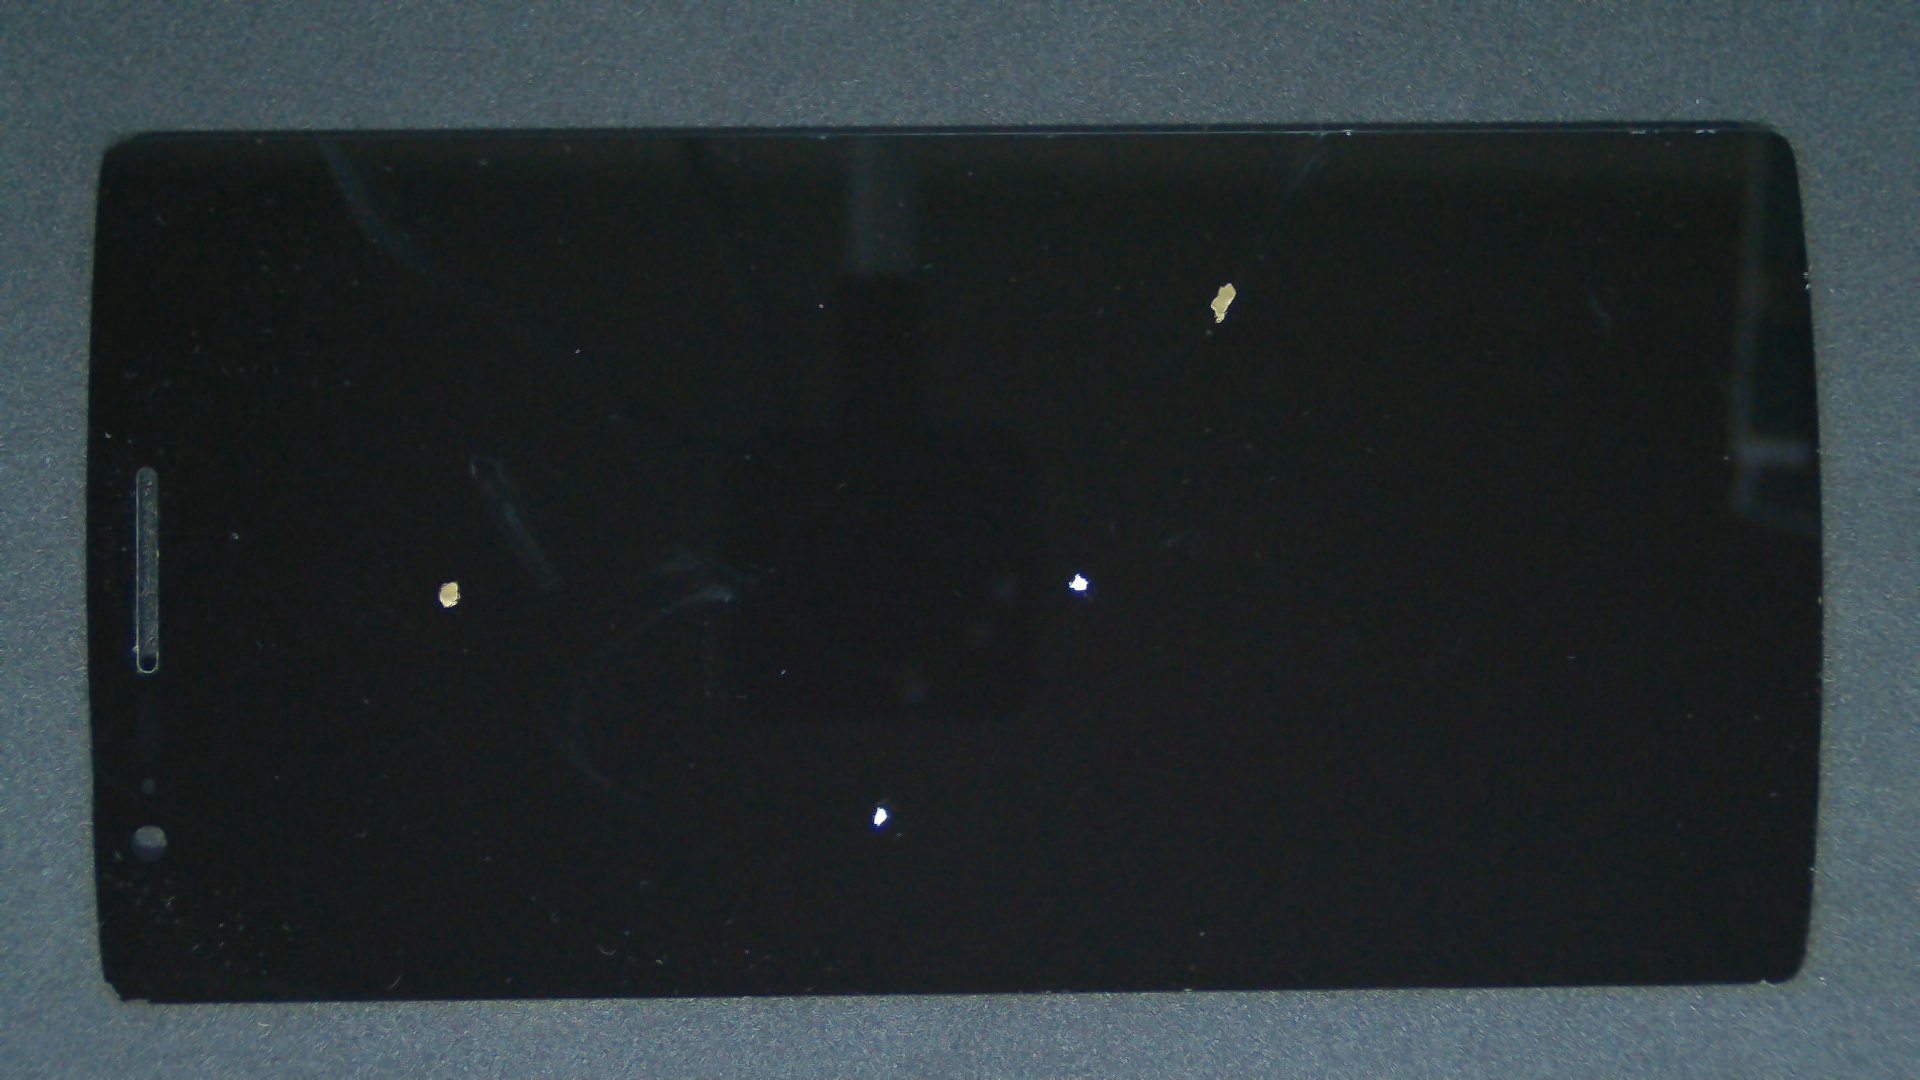oil: (539, 286, 1617, 858), (439, 402, 1315, 1080), (615, 140, 1840, 425), (225, 290, 676, 870)
